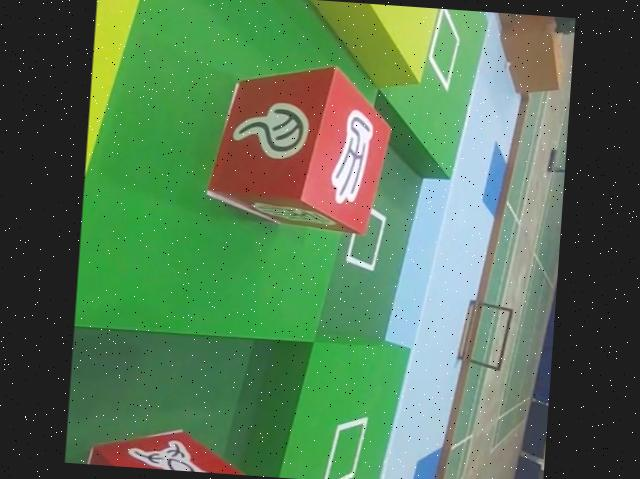R2 Fake: (205, 56, 398, 236)
R2 Real: (66, 421, 249, 475)
